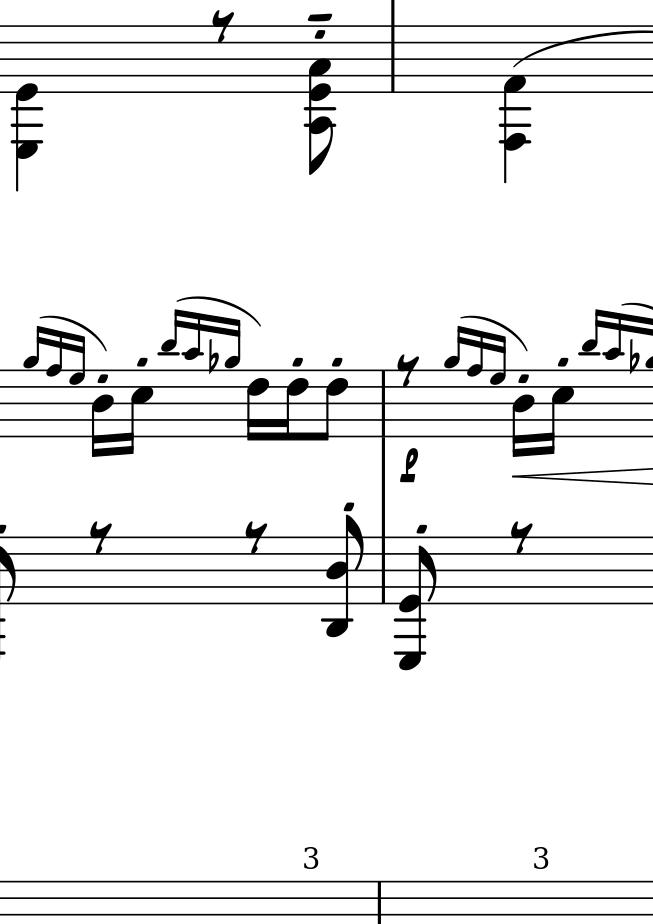16_4: (89, 369, 113, 458), (510, 370, 534, 458)
16_5: (120, 368, 153, 458), (542, 369, 574, 457)
16_6: (278, 367, 308, 442), (245, 366, 269, 443)
3: (532, 846, 550, 871), (302, 846, 319, 871)
4_-6_1: (498, 23, 529, 184)
4_-7_0: (12, 23, 42, 192)
8_-3_4: (323, 514, 365, 638)
8_-7_0: (396, 535, 437, 673)
8_6: (316, 369, 349, 441)
Flat: (205, 337, 219, 375), (627, 337, 639, 376)
Rests8: (209, 8, 236, 44), (243, 519, 269, 555), (509, 520, 535, 555), (88, 520, 113, 554), (396, 354, 419, 388)
Single_barline: (376, 537, 391, 604), (386, 25, 400, 92), (370, 881, 388, 924)
Slur: (179, 293, 260, 329), (38, 312, 110, 351), (460, 312, 527, 353), (375, 370, 394, 438)
p: (398, 448, 420, 485)
